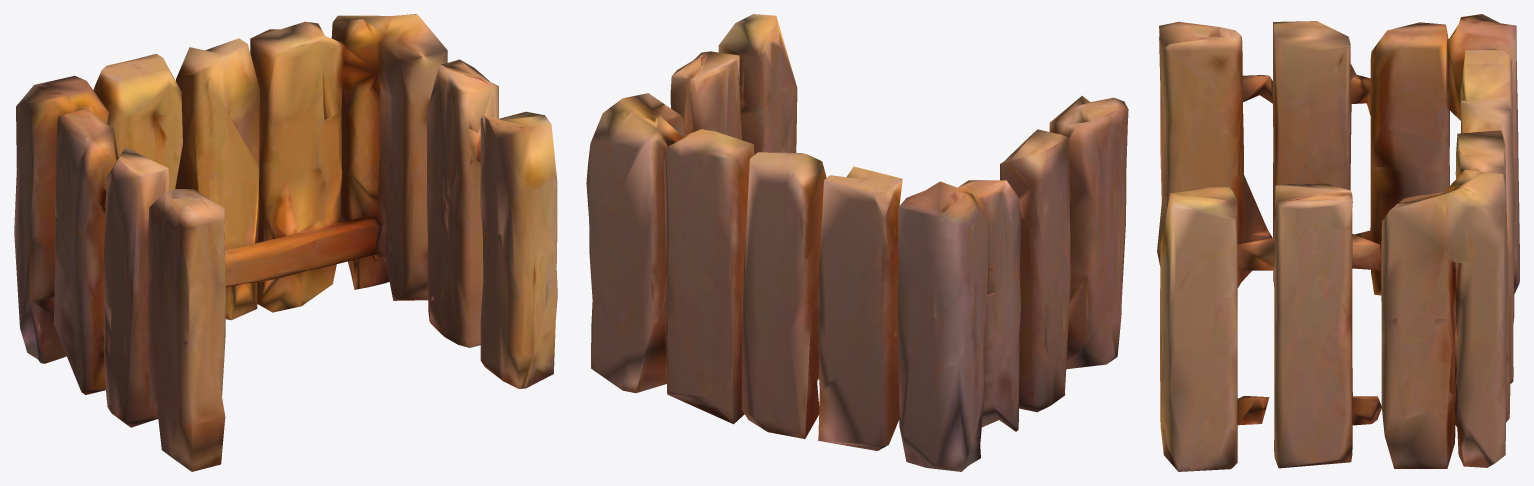
Rendered from fence.glb.
The picture shows the model from 3 angles, left to right: view 1: azimuth 30°, elevation 25°; view 2: azimuth 150°, elevation 25°; view 3: azimuth 270°, elevation 25°; orthographic projection. The views are drawn at different scales.
Visible parts, largest first — view 1: tripo_node_504f86ad-6e14-4d34-8317-8a01b498c3db; view 2: tripo_node_504f86ad-6e14-4d34-8317-8a01b498c3db; view 3: tripo_node_504f86ad-6e14-4d34-8317-8a01b498c3db.
Boxes of the visible parts, left/top/right/bottom form: tripo_node_504f86ad-6e14-4d34-8317-8a01b498c3db: left=14, top=14, right=557, bottom=471; tripo_node_504f86ad-6e14-4d34-8317-8a01b498c3db: left=586, top=14, right=1128, bottom=471; tripo_node_504f86ad-6e14-4d34-8317-8a01b498c3db: left=1157, top=14, right=1519, bottom=471.
Size of the model in its own units: 0.977 by 0.6559 by 0.7668.
Materials: 1 (1 with a texture image).
